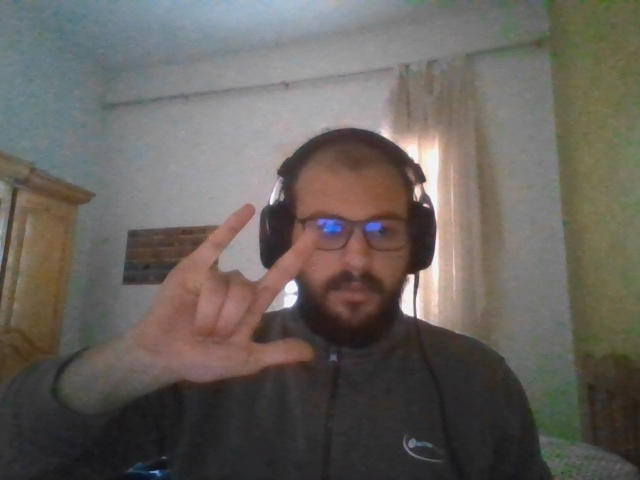I Love You: (154, 205, 315, 381)
